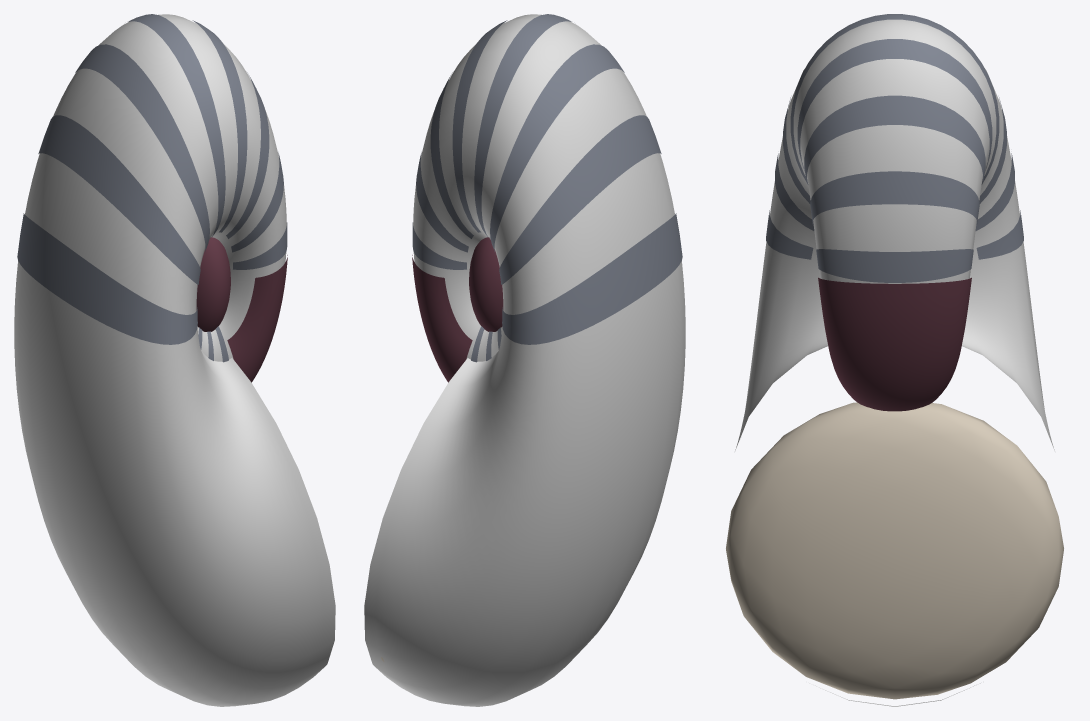
Rendered from creature.nautilusshell.glb.
3 views of the same model, side by side, from view 1: azimuth 30°, elevation 25°; view 2: azimuth 150°, elevation 25°; view 3: azimuth 270°, elevation 25° (orthographic). The views are drawn at different scales.
Visible parts, largest first — view 1: EyeWhite, BackSkin, Dark; view 2: EyeWhite, BackSkin, Dark; view 3: Skin, EyeWhite, BackSkin, Dark.
Boxes of the visible parts, x1=… form: EyeWhite: x1=14, y1=14, x2=335, y2=706; BackSkin: x1=17, y1=14, x2=287, y2=362; Dark: x1=196, y1=237, x2=287, y2=382; EyeWhite: x1=364, y1=14, x2=685, y2=706; BackSkin: x1=412, y1=14, x2=682, y2=362; Dark: x1=412, y1=237, x2=503, y2=382; Skin: x1=726, y1=402, x2=1063, y2=699; EyeWhite: x1=735, y1=19, x2=1054, y2=706; BackSkin: x1=766, y1=14, x2=1023, y2=282; Dark: x1=818, y1=277, x2=971, y2=411.
Bounding box in the file's own units: 1.27 × 3.64 × 1.82.
